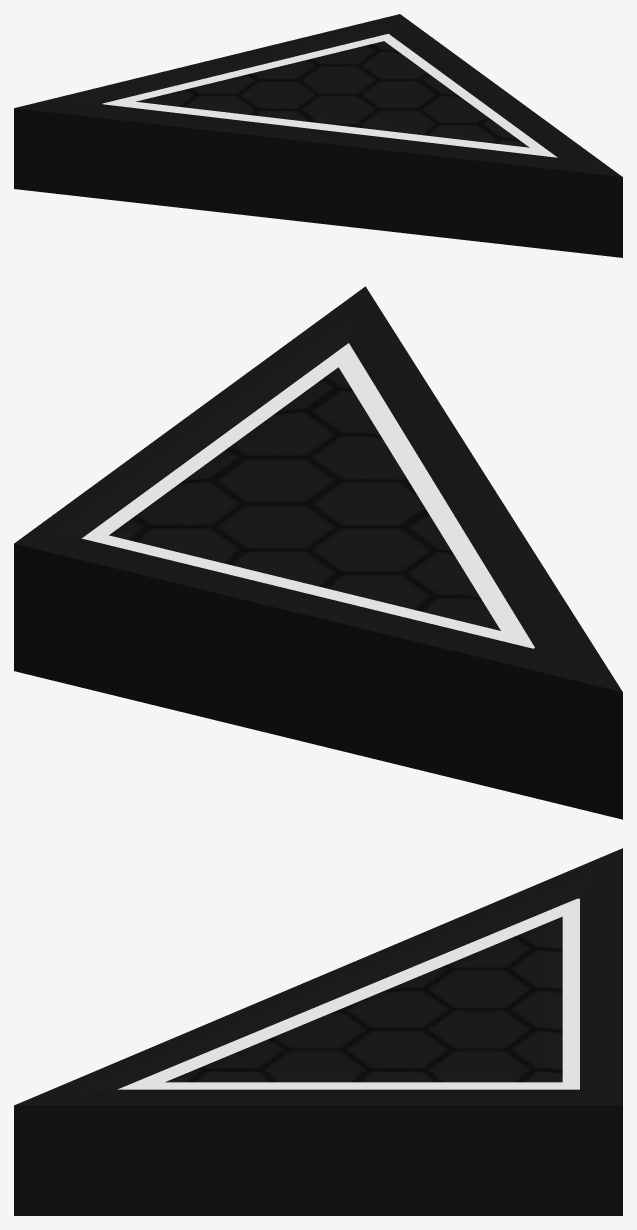
File: Tile 2E5.fbx
3 renders of one model, top to bottom at view 1: azimuth 30°, elevation 25°; view 2: azimuth 150°, elevation 25°; view 3: azimuth 270°, elevation 25°, orthographic. The views are drawn at different scales.
Visible parts, largest first — view 1: pCube172; view 2: pCube172; view 3: pCube172.
Part boxes in pixels (bbox=[...]): pCube172: bbox=[14, 14, 622, 257]; pCube172: bbox=[14, 286, 622, 819]; pCube172: bbox=[14, 848, 622, 1215].
Size of the model in its own units: 5 by 1 by 5.
